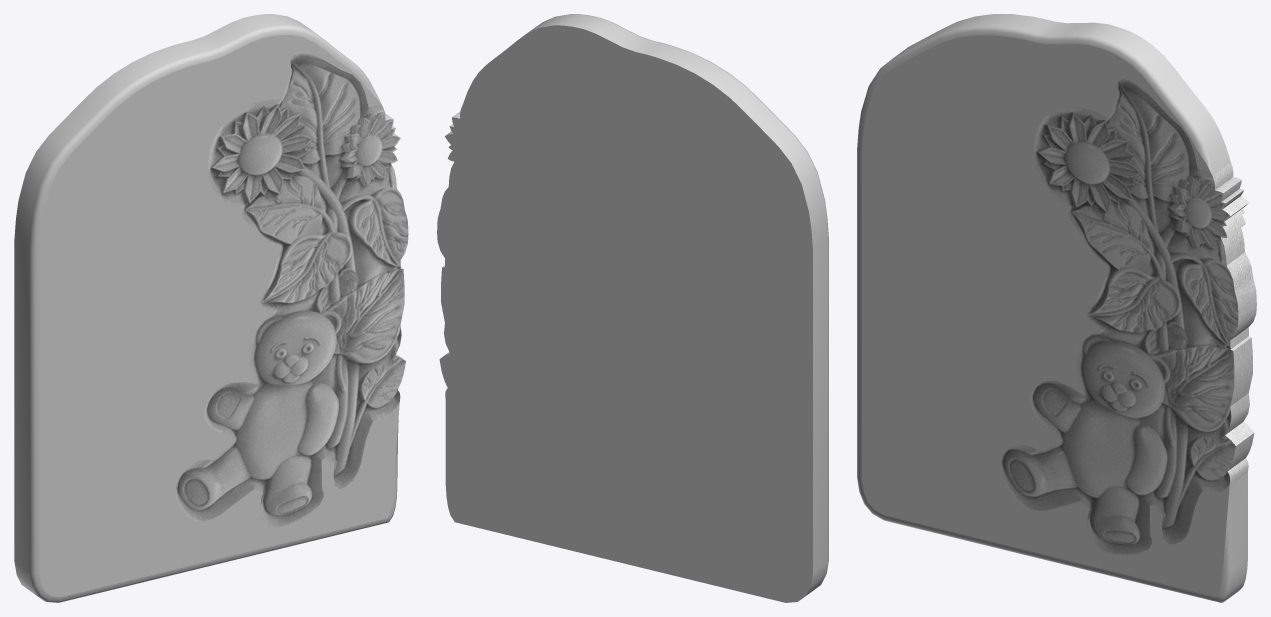
The model's file is cna9a07da77b_tkf.glb.
3 views of the same model, side by side, from view 1: azimuth 30°, elevation 25°; view 2: azimuth 150°, elevation 25°; view 3: azimuth 330°, elevation 25° (orthographic). The views are drawn at different scales.
Visible parts, largest first — view 1: Pam-d01-264, Pam-d01-264_2_notexture; view 2: Pam-d01-264; view 3: Pam-d01-264, Pam-d01-264_2_notexture.
Part boxes in pixels (box(x1,y1,x2,y2)): Pam-d01-264: box(14, 14, 399, 602); Pam-d01-264_2_notexture: box(175, 53, 408, 527); Pam-d01-264: box(437, 14, 828, 602); Pam-d01-264: box(857, 14, 1247, 602); Pam-d01-264_2_notexture: box(1000, 79, 1256, 555).
Bounding box in the file's own units: 0.6 × 0.8 × 0.05.
Materials: 1 (1 with a texture image).
